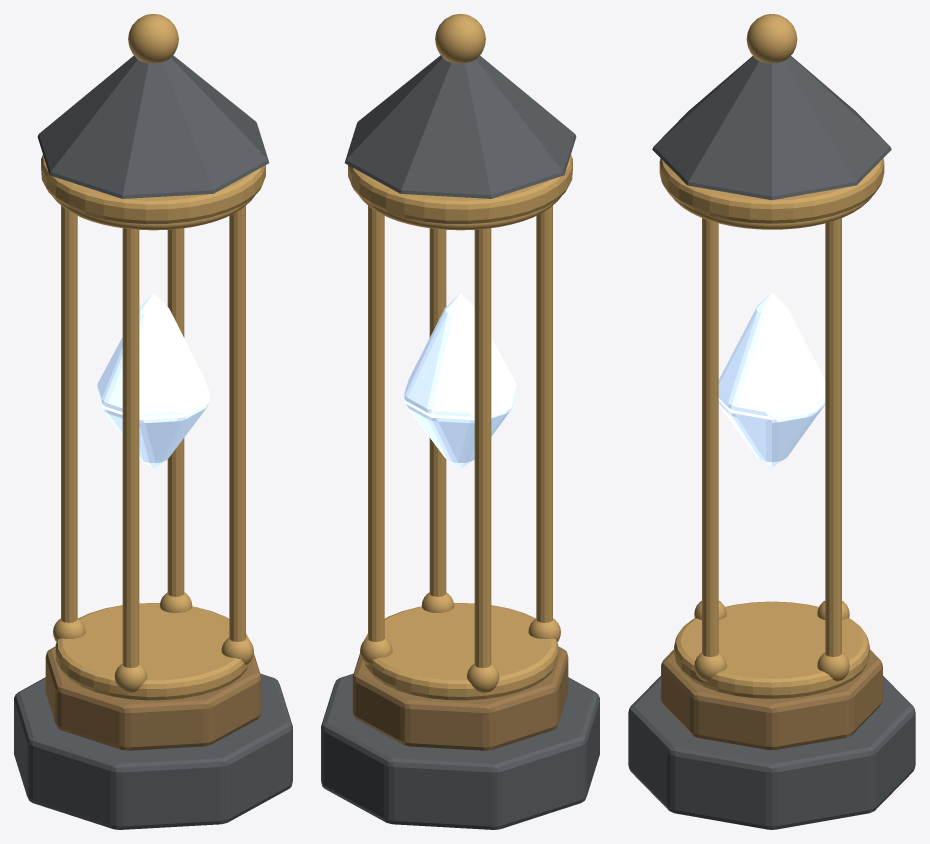
Rendered from lantern.glb.
3 renders of one model, left to right at view 1: azimuth 30°, elevation 25°; view 2: azimuth 150°, elevation 25°; view 3: azimuth 270°, elevation 25°, orthographic.
Parts seen in each view (by area): view 1: LanternBase, LanternCrystal; view 2: LanternBase, LanternCrystal; view 3: LanternBase, LanternCrystal.
Part boxes in pixels (x1,y1,x2,y2): LanternBase: [14, 14, 292, 829]; LanternCrystal: [97, 293, 209, 468]; LanternBase: [321, 14, 599, 829]; LanternCrystal: [404, 293, 516, 468]; LanternBase: [628, 14, 915, 829]; LanternCrystal: [718, 292, 825, 466].
Size of the model in its own units: 0.7919 by 2.3 by 0.7919.
